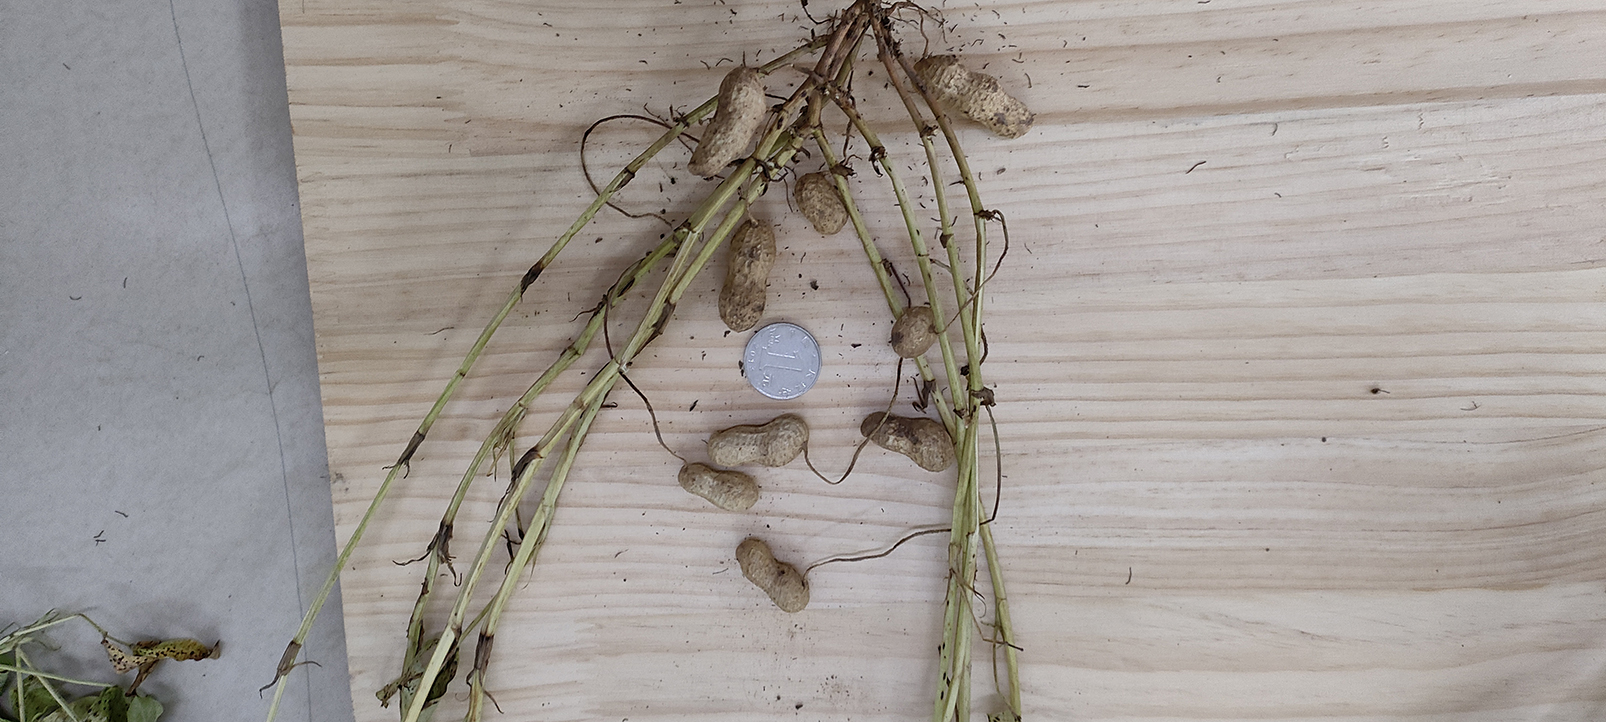h: (914, 55, 1036, 138), (687, 67, 767, 178), (717, 218, 775, 331), (736, 537, 809, 613), (706, 414, 807, 468), (679, 462, 759, 512), (794, 173, 849, 236), (891, 307, 938, 356)
l: (860, 412, 953, 472)
